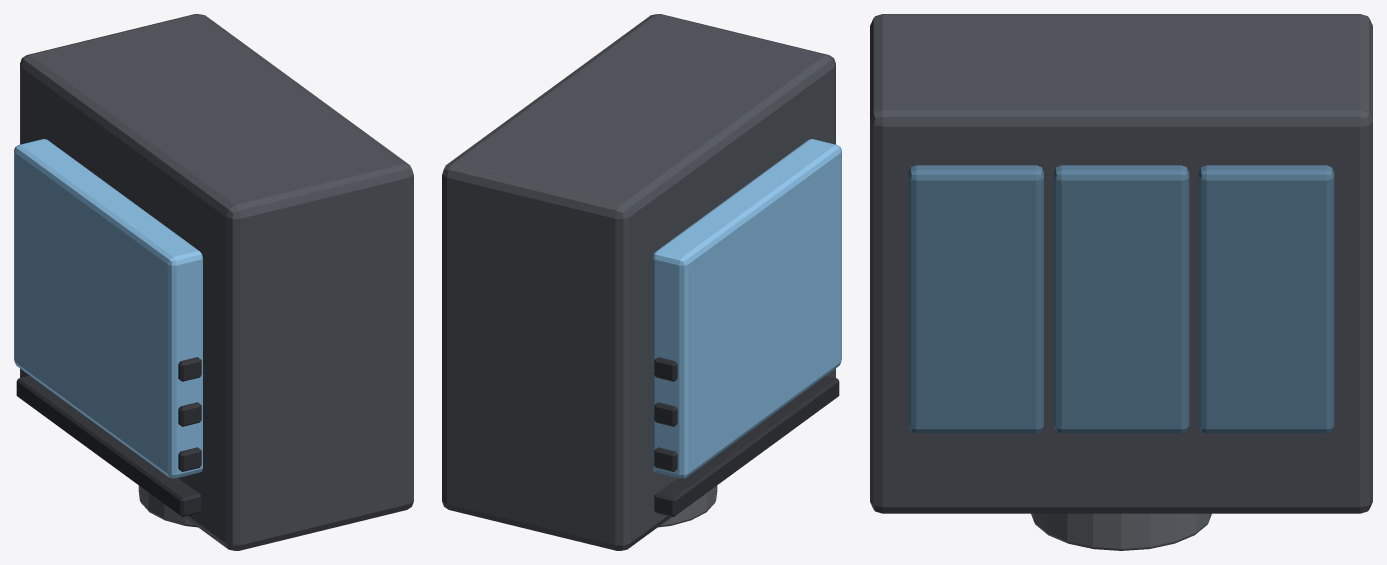
File: module_pack_ammo.fbx
3 views of the same model, side by side, from view 1: azimuth 30°, elevation 25°; view 2: azimuth 150°, elevation 25°; view 3: azimuth 270°, elevation 25° (orthographic). The views are drawn at different scales.
Visible parts, largest first — view 1: SM_Module_PackAmmo; view 2: SM_Module_PackAmmo; view 3: SM_Module_PackAmmo.
Boxes of the visible parts, left/top/right/bottom form: SM_Module_PackAmmo: left=14, top=14, right=413, bottom=550; SM_Module_PackAmmo: left=442, top=14, right=841, bottom=550; SM_Module_PackAmmo: left=870, top=14, right=1372, bottom=550.
Size of what is drawn, in the model's own units: 32.5 by 51.5 by 52.
